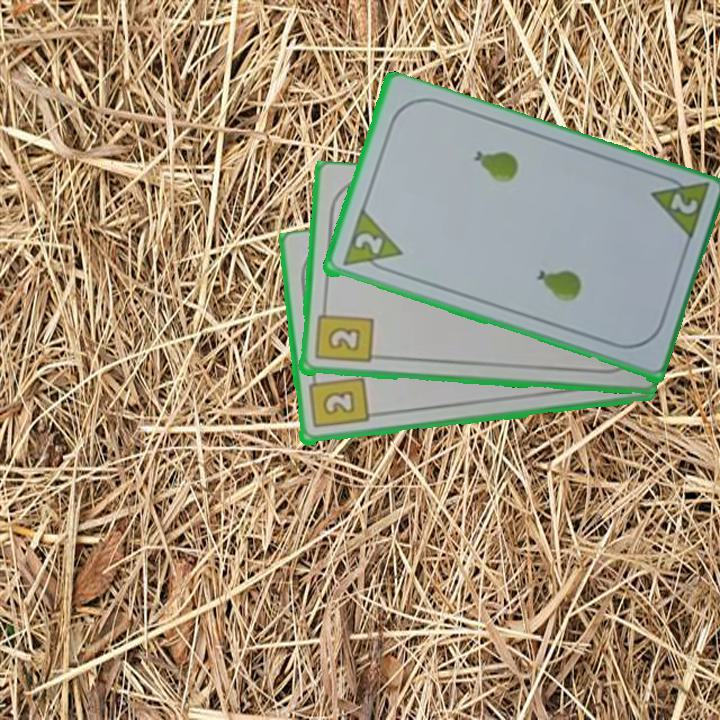2b: (304, 370, 371, 432), (311, 302, 375, 366)
2p: (646, 170, 712, 246), (350, 229, 386, 259)
